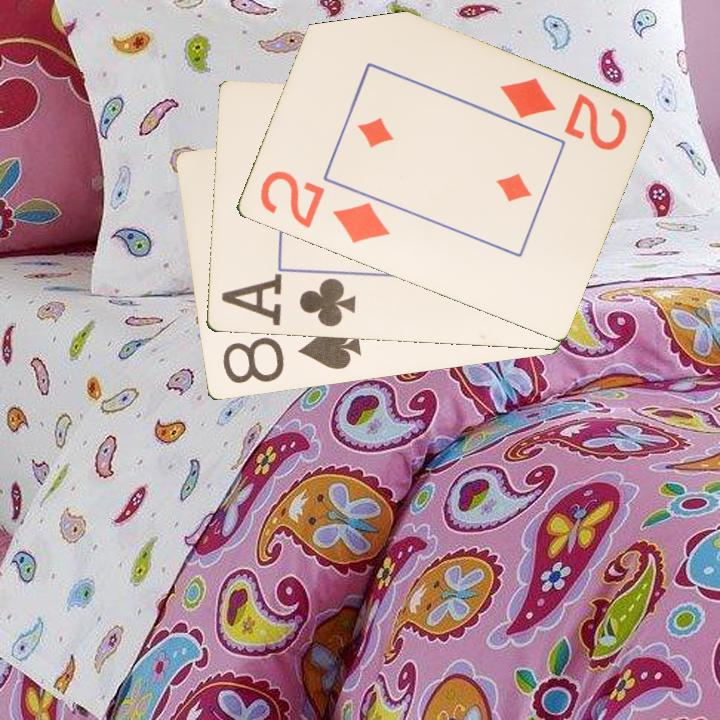2d: (256, 167, 393, 247), (496, 74, 630, 154)
8s: (218, 322, 364, 387)
Ac: (217, 272, 359, 331)
